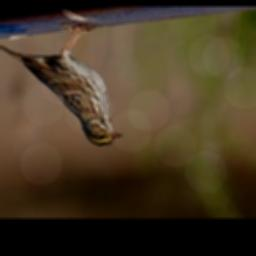Sparrow: (0, 24, 122, 147)
